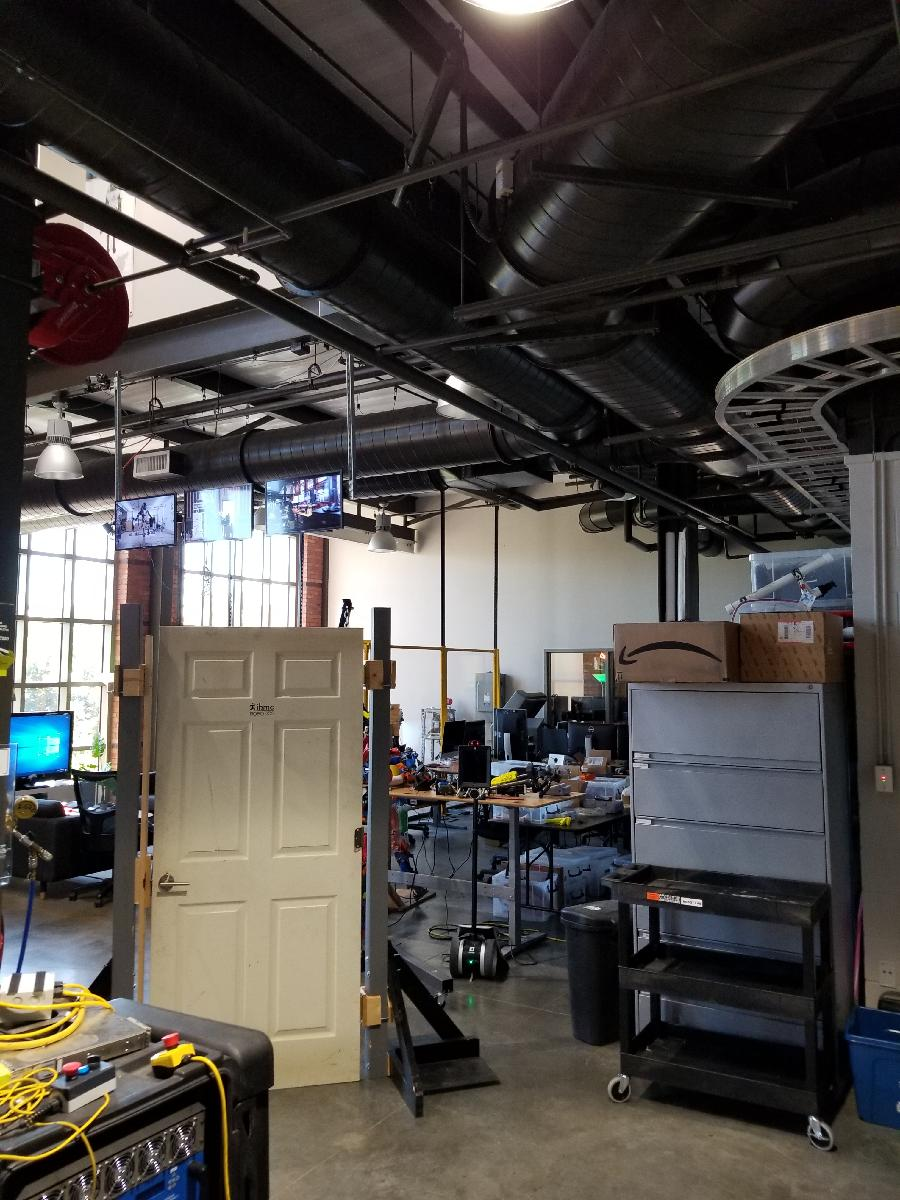door: (141, 621, 368, 1092)
doorHandle: (161, 870, 191, 896)
